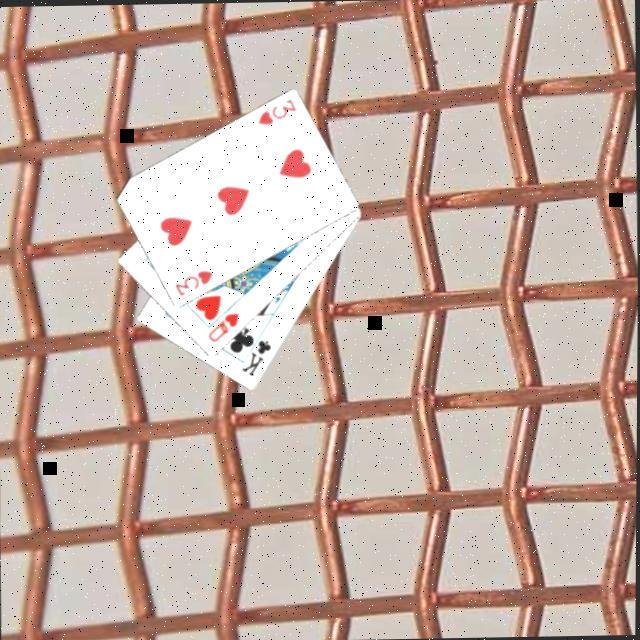3H: (252, 96, 299, 129), (170, 267, 215, 300)
KC: (236, 329, 273, 380)
QH: (203, 310, 241, 346)
